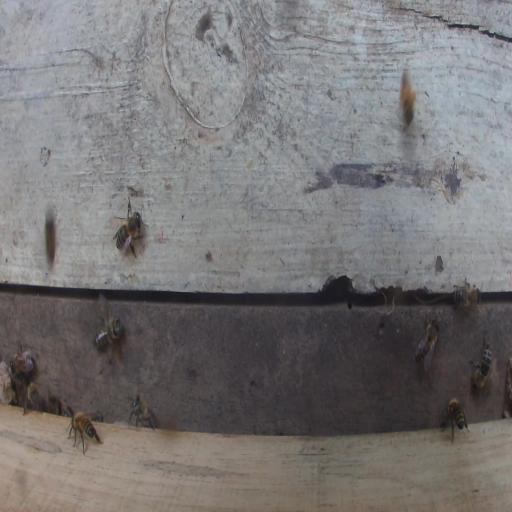nonpollenbee: (107, 189, 149, 270), (93, 293, 124, 367), (68, 410, 104, 455), (413, 317, 441, 373), (468, 332, 492, 391), (451, 274, 484, 315), (446, 395, 470, 443), (128, 393, 158, 431), (10, 339, 36, 376), (22, 382, 43, 416)
pollenbee: (400, 69, 417, 126)
